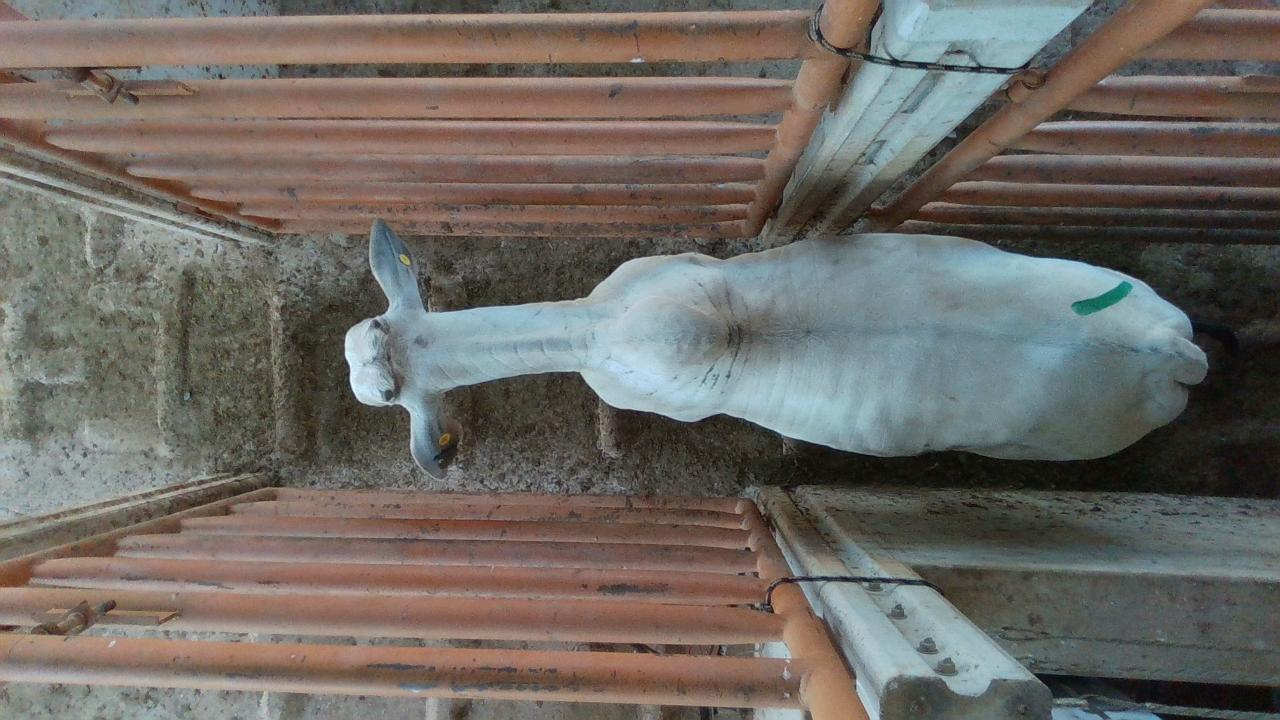cattle: (341, 217, 1227, 479)
